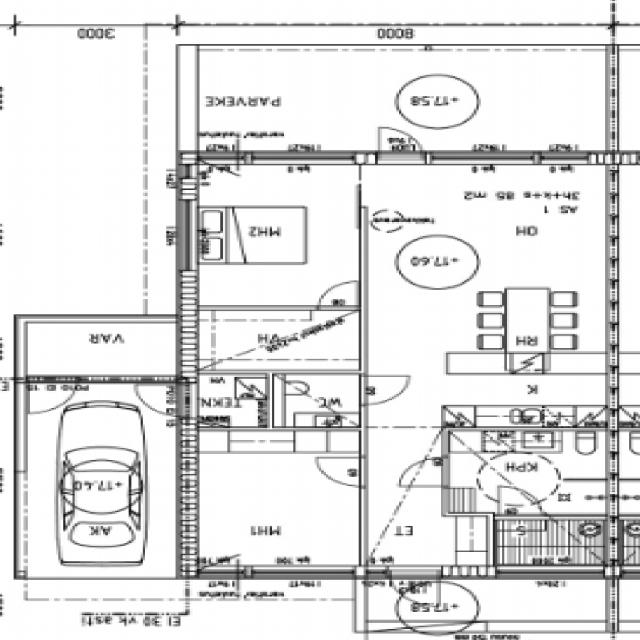door: (390, 566, 439, 611), (130, 384, 198, 415), (28, 376, 76, 414), (378, 124, 422, 165), (498, 486, 542, 520), (398, 458, 448, 487), (317, 458, 367, 486), (360, 376, 410, 404), (320, 280, 358, 310)
